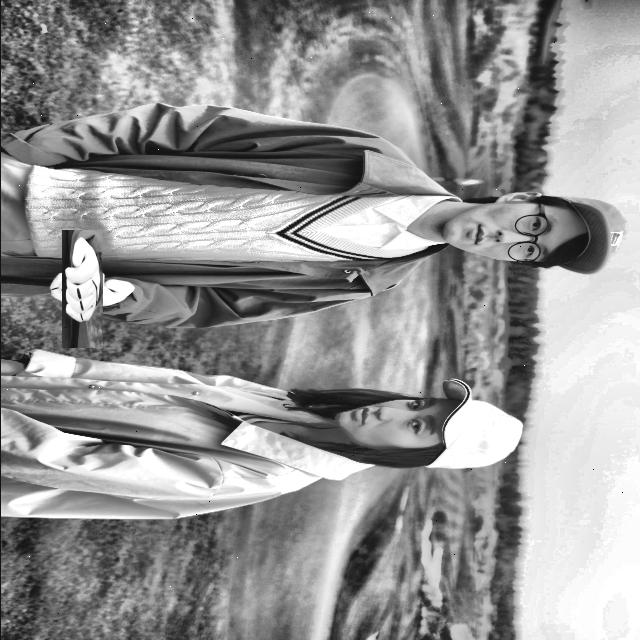gloved: (42, 249, 122, 329)
